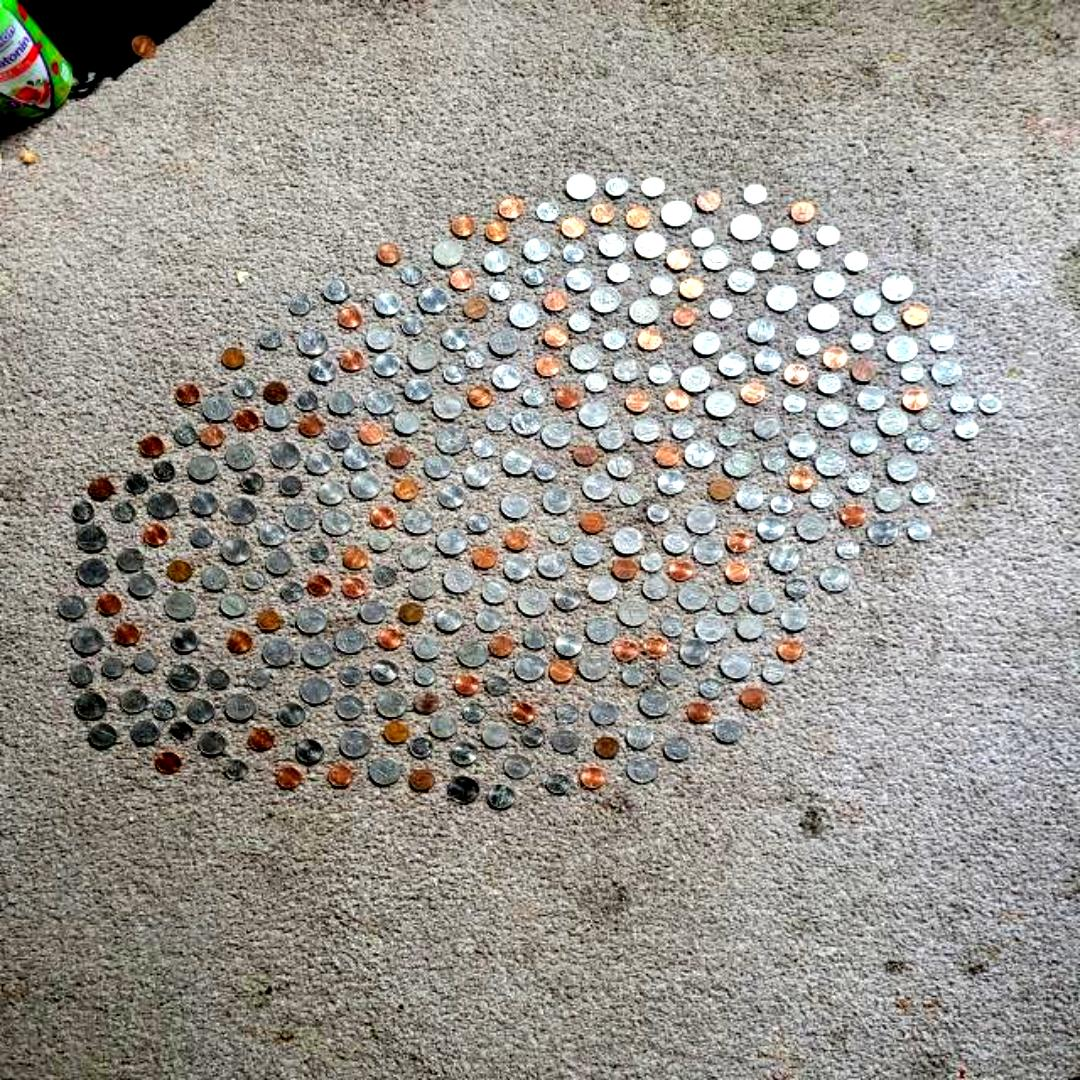Dime: (750, 251, 776, 271), (784, 392, 807, 414), (133, 652, 158, 672), (920, 410, 944, 430), (796, 249, 820, 269), (844, 252, 868, 272), (930, 331, 954, 351), (900, 362, 924, 382), (872, 311, 896, 331), (796, 335, 820, 355), (978, 393, 1002, 413), (908, 521, 932, 541), (836, 539, 860, 559), (716, 593, 740, 613), (242, 570, 266, 590), (112, 501, 136, 521), (102, 657, 126, 677), (246, 668, 270, 688), (462, 701, 486, 721), (698, 678, 722, 698), (762, 663, 786, 683), (520, 726, 544, 746), (224, 760, 248, 780), (691, 228, 714, 248), (710, 299, 733, 319), (608, 263, 631, 283), (241, 472, 264, 492), (718, 426, 741, 446), (848, 473, 871, 493), (906, 431, 929, 451), (785, 578, 808, 598), (374, 565, 397, 585), (307, 542, 330, 562), (154, 700, 177, 720), (622, 666, 645, 686), (170, 722, 193, 742), (744, 184, 766, 204), (402, 265, 424, 285), (818, 374, 840, 394), (296, 391, 318, 411), (328, 430, 350, 450), (280, 475, 302, 495), (486, 411, 508, 431), (536, 461, 558, 481), (672, 419, 694, 439), (810, 488, 832, 508), (912, 484, 934, 504), (956, 419, 978, 439), (370, 532, 392, 552), (282, 581, 304, 601), (208, 669, 230, 689), (414, 665, 436, 685), (340, 666, 362, 686), (486, 675, 508, 695), (548, 772, 570, 792), (410, 738, 432, 758), (536, 203, 560, 221), (488, 282, 512, 300), (648, 365, 672, 383), (602, 331, 626, 349), (950, 393, 974, 411), (190, 528, 214, 546), (660, 667, 684, 685), (290, 295, 311, 315), (587, 372, 608, 392), (770, 494, 791, 514), (640, 552, 661, 572), (557, 703, 578, 723), (524, 629, 545, 649), (850, 332, 873, 350), (73, 501, 96, 519), (564, 243, 584, 263), (524, 266, 544, 286), (818, 225, 838, 245), (524, 387, 544, 407), (176, 425, 196, 445), (154, 461, 174, 481), (764, 452, 784, 472), (662, 617, 682, 637), (648, 502, 668, 522), (72, 665, 92, 685), (606, 178, 628, 196), (642, 178, 664, 196), (466, 350, 488, 368), (444, 365, 466, 383), (402, 317, 424, 335), (260, 330, 282, 348), (234, 379, 256, 397), (620, 485, 642, 503), (468, 513, 490, 531), (126, 474, 148, 492), (473, 439, 494, 457), (652, 276, 672, 294), (570, 312, 590, 330), (550, 525, 570, 543)
Nickel: (596, 232, 628, 260), (712, 718, 742, 744), (550, 728, 580, 754), (88, 722, 118, 748), (186, 698, 216, 724), (589, 700, 619, 726), (753, 414, 781, 440), (198, 730, 226, 756), (435, 606, 463, 632), (522, 238, 552, 262), (779, 606, 809, 630), (120, 690, 150, 714), (504, 557, 532, 582), (372, 293, 402, 316), (717, 352, 747, 375), (404, 378, 430, 404), (874, 488, 902, 512), (664, 736, 692, 760), (429, 714, 457, 738), (131, 720, 159, 744), (276, 702, 304, 726), (503, 754, 531, 778), (370, 660, 398, 684), (475, 608, 503, 632), (116, 548, 144, 572), (853, 292, 881, 316), (702, 246, 730, 270), (296, 740, 324, 764), (756, 516, 784, 540), (201, 568, 231, 590), (727, 270, 757, 292), (788, 434, 815, 458), (481, 580, 508, 604), (172, 628, 199, 652), (481, 724, 508, 748), (736, 616, 763, 640), (266, 552, 293, 576), (130, 574, 157, 598), (850, 431, 878, 454), (612, 359, 640, 382), (442, 326, 470, 349), (323, 279, 351, 302), (336, 696, 364, 719), (450, 741, 478, 764), (606, 454, 634, 477), (464, 465, 492, 488), (318, 483, 346, 506), (366, 326, 394, 349), (191, 493, 219, 516), (754, 348, 782, 371), (772, 228, 798, 252), (598, 426, 624, 450), (414, 636, 440, 660), (488, 784, 514, 808), (556, 632, 582, 656), (664, 530, 690, 554), (748, 320, 774, 344), (626, 726, 653, 749), (309, 359, 336, 382), (858, 388, 886, 410), (372, 354, 400, 376), (424, 456, 452, 478), (437, 486, 465, 508), (264, 406, 292, 428), (408, 576, 436, 598), (658, 472, 686, 494), (394, 412, 422, 434), (634, 418, 660, 441), (736, 487, 762, 510), (344, 446, 370, 469), (566, 268, 592, 291), (749, 590, 776, 612), (692, 332, 719, 354), (59, 596, 87, 617), (360, 601, 388, 622), (221, 595, 249, 616), (328, 392, 356, 413), (307, 450, 332, 473), (642, 578, 670, 598), (554, 588, 581, 608), (260, 524, 286, 544), (484, 252, 510, 272)
Penny: (609, 560, 639, 580), (664, 388, 690, 411), (199, 426, 226, 448), (336, 308, 364, 329), (358, 424, 384, 446), (376, 628, 402, 650), (88, 478, 114, 500), (276, 766, 302, 788), (142, 526, 170, 546), (264, 381, 288, 404), (156, 752, 181, 774), (902, 389, 928, 410), (670, 305, 696, 326), (708, 480, 734, 501), (454, 675, 480, 696), (510, 703, 536, 724), (595, 738, 622, 758), (579, 768, 606, 788), (626, 206, 650, 228), (638, 328, 662, 350), (574, 444, 598, 466), (370, 506, 394, 528), (488, 634, 512, 656), (414, 692, 438, 714), (740, 383, 766, 403), (678, 278, 704, 298), (590, 203, 616, 223), (560, 217, 586, 237), (544, 291, 570, 311), (624, 392, 650, 412), (840, 506, 866, 526), (778, 640, 804, 660), (668, 560, 694, 580), (654, 446, 680, 466), (472, 548, 498, 568), (386, 446, 412, 466), (342, 549, 368, 569), (550, 662, 576, 682), (740, 688, 766, 708), (166, 560, 192, 580), (114, 624, 140, 644), (384, 722, 410, 742), (686, 702, 712, 722), (904, 304, 926, 327), (395, 478, 418, 500), (852, 360, 876, 381), (822, 348, 846, 369), (536, 356, 560, 377), (308, 574, 332, 595), (725, 562, 750, 582), (174, 383, 199, 403), (340, 348, 362, 370), (97, 595, 120, 616), (790, 202, 814, 222), (696, 191, 720, 211), (784, 365, 808, 385), (666, 250, 690, 270), (498, 198, 522, 218), (376, 244, 400, 264), (462, 299, 486, 319), (468, 387, 492, 407), (726, 532, 750, 552), (614, 641, 638, 661), (582, 512, 606, 532), (790, 470, 814, 490), (504, 530, 528, 550), (342, 577, 366, 597), (222, 349, 246, 369), (140, 436, 164, 456), (228, 632, 252, 652), (256, 610, 280, 630), (250, 730, 274, 750), (328, 766, 352, 786), (410, 770, 434, 790), (486, 220, 508, 241), (645, 636, 666, 658), (400, 602, 422, 623), (300, 415, 322, 436), (236, 410, 258, 431), (543, 327, 566, 347), (556, 388, 579, 408), (450, 271, 474, 289), (452, 217, 474, 235)
Quarter: (370, 756, 402, 786), (866, 518, 899, 546), (931, 358, 963, 386), (816, 400, 848, 428), (300, 676, 332, 704), (448, 776, 480, 804), (626, 756, 658, 784), (887, 454, 919, 482), (877, 408, 909, 436), (693, 537, 725, 565), (502, 448, 534, 476), (436, 528, 468, 556), (222, 536, 254, 564), (432, 240, 464, 268), (661, 199, 693, 226), (432, 393, 464, 420), (302, 640, 334, 667), (168, 664, 200, 691), (537, 551, 569, 578), (443, 567, 475, 594), (349, 474, 381, 501), (77, 559, 109, 586), (766, 285, 796, 313), (814, 270, 844, 298), (731, 214, 761, 242), (566, 174, 596, 202), (336, 626, 366, 654), (341, 729, 371, 757), (640, 689, 670, 717), (679, 638, 709, 666), (768, 545, 798, 573), (797, 513, 827, 541), (724, 450, 754, 478), (619, 599, 649, 627), (188, 454, 218, 482), (271, 442, 301, 470), (681, 366, 711, 394), (808, 304, 840, 330), (881, 276, 913, 302), (491, 364, 523, 390), (578, 402, 610, 428), (165, 594, 197, 620), (262, 640, 294, 666), (295, 608, 327, 634), (376, 692, 408, 718), (457, 640, 489, 666), (513, 654, 545, 680), (818, 566, 850, 592), (685, 508, 717, 534), (516, 590, 548, 616), (510, 410, 542, 436), (402, 508, 434, 534), (399, 544, 431, 570), (225, 498, 257, 524), (224, 444, 256, 470), (77, 526, 109, 552), (148, 492, 180, 518), (408, 344, 440, 370), (76, 692, 106, 719), (225, 692, 255, 719), (684, 441, 714, 468), (572, 538, 602, 565), (582, 474, 612, 501), (630, 298, 660, 324), (636, 232, 666, 258), (579, 654, 609, 680), (721, 652, 751, 678), (696, 616, 726, 642), (815, 450, 845, 476), (679, 584, 709, 610), (587, 616, 617, 642), (587, 576, 617, 602), (613, 528, 643, 554), (541, 422, 571, 448), (298, 330, 328, 356), (490, 330, 520, 356), (886, 336, 918, 360), (72, 628, 104, 652), (435, 428, 467, 452), (321, 510, 353, 534), (285, 504, 317, 528), (202, 396, 234, 420), (364, 390, 396, 414), (418, 288, 450, 312), (501, 493, 531, 518), (570, 346, 600, 370), (590, 288, 620, 312), (543, 488, 573, 512), (509, 304, 539, 328), (705, 392, 735, 416)
